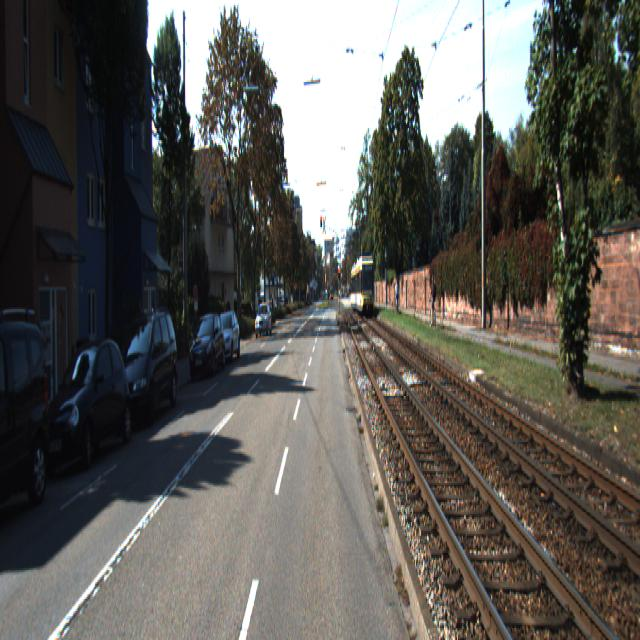Car: (41, 333, 135, 474), (0, 310, 56, 540), (110, 306, 180, 431), (188, 312, 225, 382), (350, 255, 375, 318), (212, 310, 240, 366), (255, 303, 272, 340)
